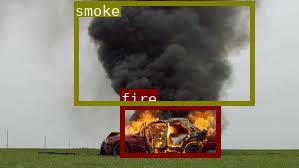fire: (120, 105, 219, 157)
smoke: (74, 0, 253, 105)
